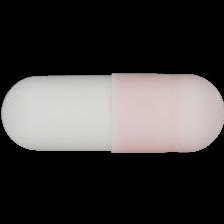69189-0503: (0, 0, 224, 224)
